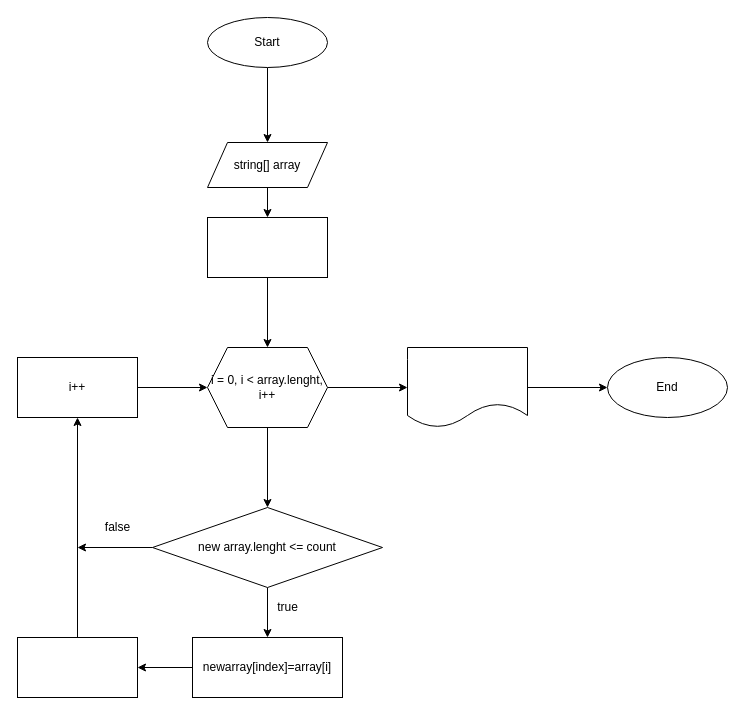
Image size: 745x715. Some labels were removed from this diagram. The centre of each missing label's shape, as x and y in pixels:
index++: (77,667)
int i = 0 int j = 0 int count = 3: (267,247)
print new array: (467,387)
